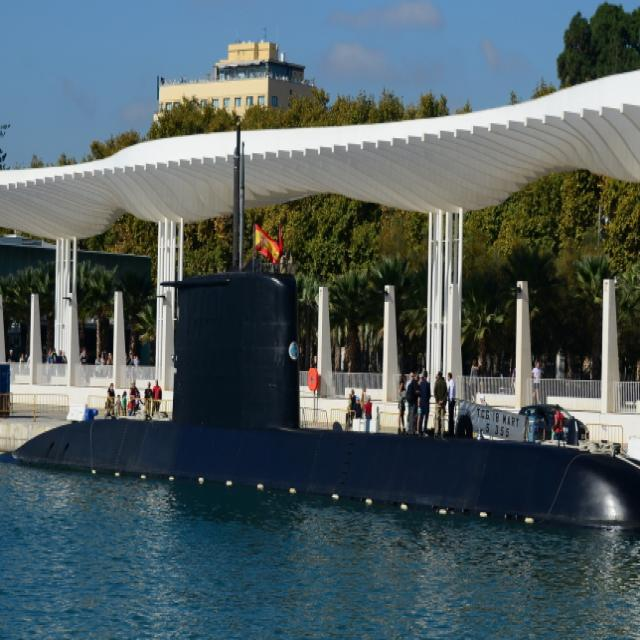submarine: (1, 271, 640, 536)
